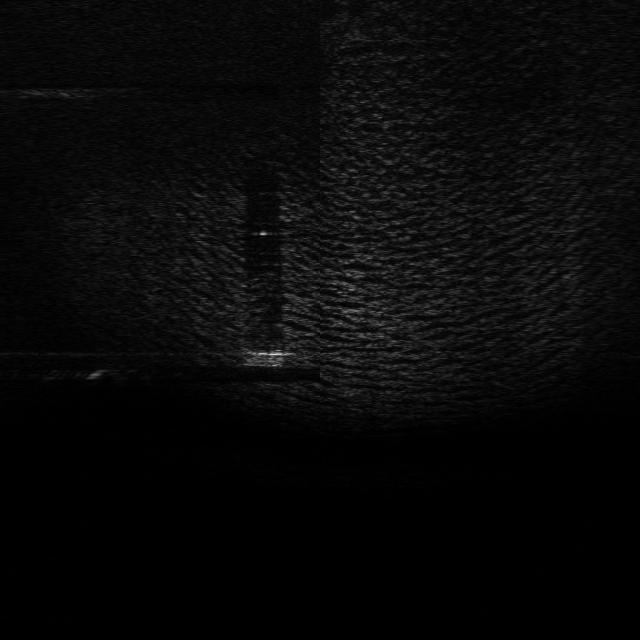cube: (242, 344, 289, 368)
